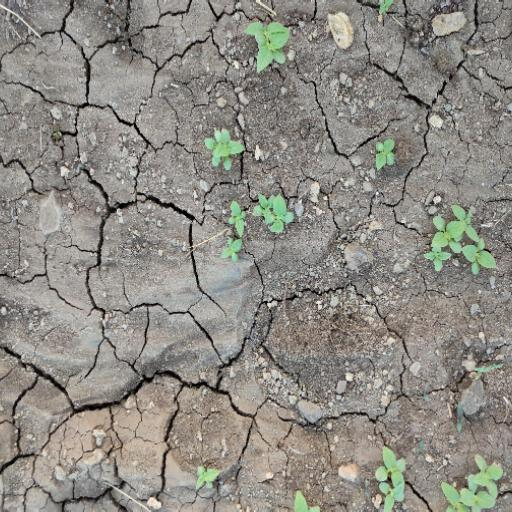crop: (419, 197, 501, 292), (212, 192, 297, 254), (236, 11, 300, 78), (362, 127, 406, 186), (198, 123, 249, 171), (363, 450, 408, 496)
